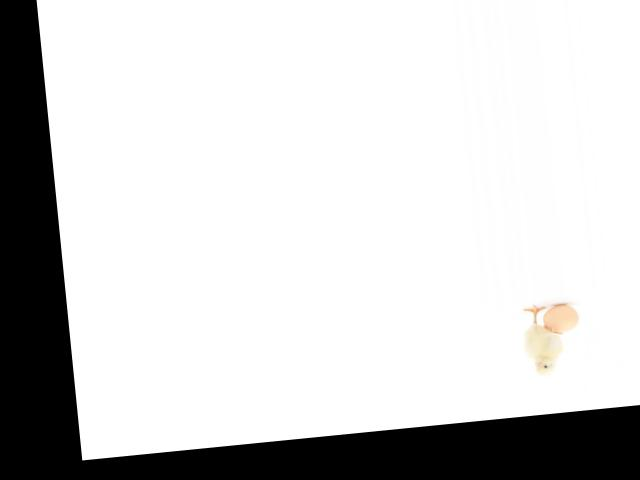egg: (540, 303, 580, 334)
